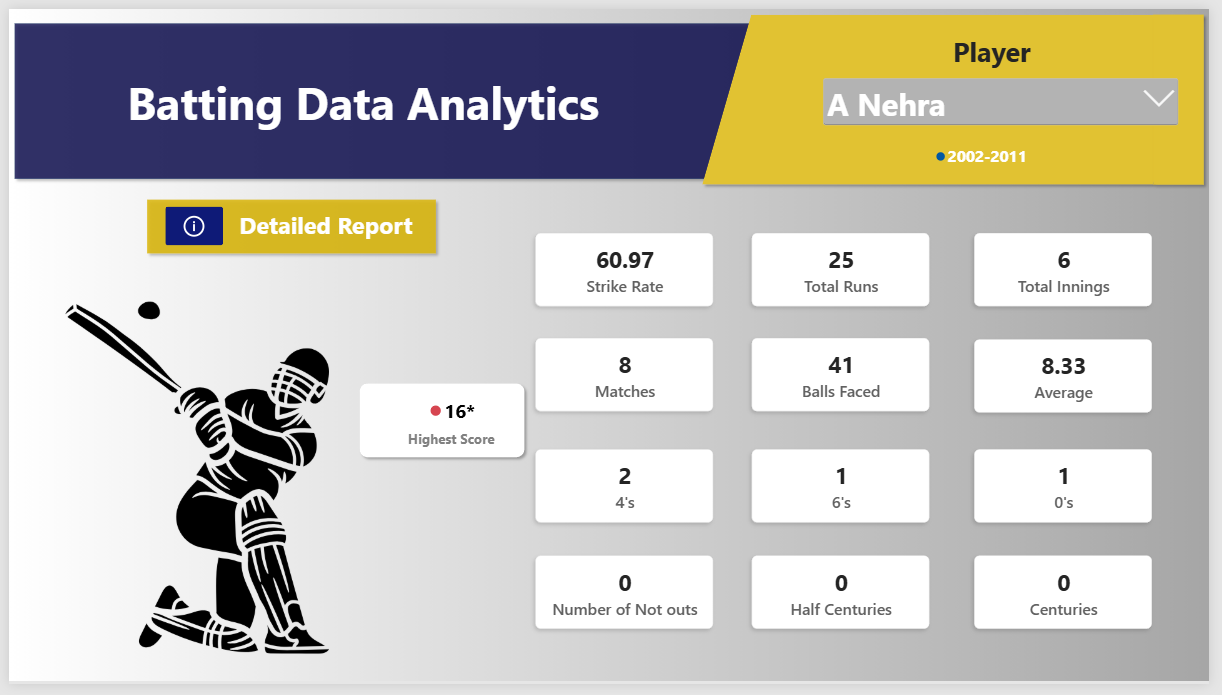

The page's visual inventory and layout, read from the dashboard file:
{"tool":"powerbi","page":{"name":"Batting","canvas":[1920,1080],"ordinal":0},"visuals":[{"type":"shape","box":[0,13.3,1226.7,266.7],"z":0,"group":"g1"},{"type":"shape","box":[212,296,480,104],"z":0},{"type":"group","id":"g1","title":"Group 1","box":[0,0,1920,290],"z":1000},{"type":"shape","box":[1100,0,818,290],"z":1000,"group":"g1"},{"type":"shape","box":[1821.4,0,98.6,290],"z":2000,"group":"g1"},{"type":"slicer","fields":{"Values":["Batting.Player"]},"box":[1297.5,105,577.5,105],"z":2000},{"type":"textbox","box":[1430,37.5,285,67.5],"z":3000},{"type":"treemap","fields":{"Group":["Batting.Span"]},"box":[1430,200,256.2,55],"z":4000},{"type":"textbox","box":[113.3,100,905,117.5],"z":5000},{"type":"cardVisual","fields":{"Data":["Sum(Batting.SR)"]},"box":[831.9,347.9,305.5,138],"z":6000},{"type":"cardVisual","fields":{"Data":["Sum(Batting.Runs)"]},"box":[1177.9,347.9,305.5,138],"z":7000},{"type":"cardVisual","fields":{"Data":["Sum(Batting.Inns)"]},"box":[1533.1,347.9,305.5,138],"z":8000},{"type":"cardVisual","fields":{"Data":["Sum(Batting.Mat)"]},"box":[831.9,515.3,305.5,138],"z":9000},{"type":"cardVisual","fields":{"Data":["Sum(Batting.BF)"]},"box":[1177.9,515.3,305.5,138],"z":10000},{"type":"cardVisual","fields":{"Data":["Sum(Batting.0)"]},"box":[1533.1,693.9,305.5,138],"z":11000},{"type":"cardVisual","fields":{"Data":["Sum(Batting.4s)"]},"box":[831.9,693.9,305.5,138],"z":12000},{"type":"cardVisual","fields":{"Data":["Sum(Batting.6s)"]},"box":[1177.9,693.9,305.5,138],"z":13000},{"type":"cardVisual","fields":{"Data":["Sum(Batting.50)"]},"box":[831.9,863.2,305.5,138],"z":14000},{"type":"cardVisual","fields":{"Data":["Sum(Batting.Ave)"]},"box":[1533.1,517.2,305.5,138],"z":15000},{"type":"cardVisual","fields":{"Data":["Sum(Batting.50)"]},"box":[1177.9,863.2,305.5,138],"z":16000},{"type":"cardVisual","fields":{"Data":["Sum(Batting.100)"]},"box":[1533.1,863.2,305.5,138],"z":17000},{"type":"shape","box":[552.2,590.8,281.6,136.2],"z":18000},{"type":"treemap","fields":{"Group":["Batting.HS"]},"box":[653.4,603.7,136.2,68.1],"z":19000},{"type":"textbox","box":[612.9,671.8,191.4,42.3],"z":20000},{"type":"actionButton","box":[250,315,92.5,62.5],"z":21000},{"type":"textbox","box":[360,320,294,58],"z":22000}]}

Visuals, with their boxes in screenshot pixels (x1, y1, x2, y2), scaled from the page's 1920x1080 canvas onto the 1222x695 screenshot:
shape: rect(0, 9, 781, 180)
shape: rect(135, 190, 440, 257)
"Group 1" group: rect(0, 0, 1221, 187)
shape: rect(700, 0, 1221, 187)
shape: rect(1159, 0, 1221, 187)
slicer - Batting.Player: rect(826, 68, 1193, 135)
textbox: rect(910, 24, 1092, 68)
treemap - Batting.Span: rect(910, 129, 1073, 164)
textbox: rect(72, 64, 648, 140)
cardVisual - Sum(Batting.SR): rect(529, 224, 724, 313)
cardVisual - Sum(Batting.Runs): rect(750, 224, 944, 313)
cardVisual - Sum(Batting.Inns): rect(976, 224, 1170, 313)
cardVisual - Sum(Batting.Mat): rect(529, 332, 724, 420)
cardVisual - Sum(Batting.BF): rect(750, 332, 944, 420)
cardVisual - Sum(Batting.0): rect(976, 447, 1170, 535)
cardVisual - Sum(Batting.4s): rect(529, 447, 724, 535)
cardVisual - Sum(Batting.6s): rect(750, 447, 944, 535)
cardVisual - Sum(Batting.50): rect(529, 555, 724, 644)
cardVisual - Sum(Batting.Ave): rect(976, 333, 1170, 422)
cardVisual - Sum(Batting.50): rect(750, 555, 944, 644)
cardVisual - Sum(Batting.100): rect(976, 555, 1170, 644)
shape: rect(351, 380, 531, 468)
treemap - Batting.HS: rect(416, 388, 503, 432)
textbox: rect(390, 432, 512, 460)
actionButton: rect(159, 203, 218, 243)
textbox: rect(229, 206, 416, 243)
